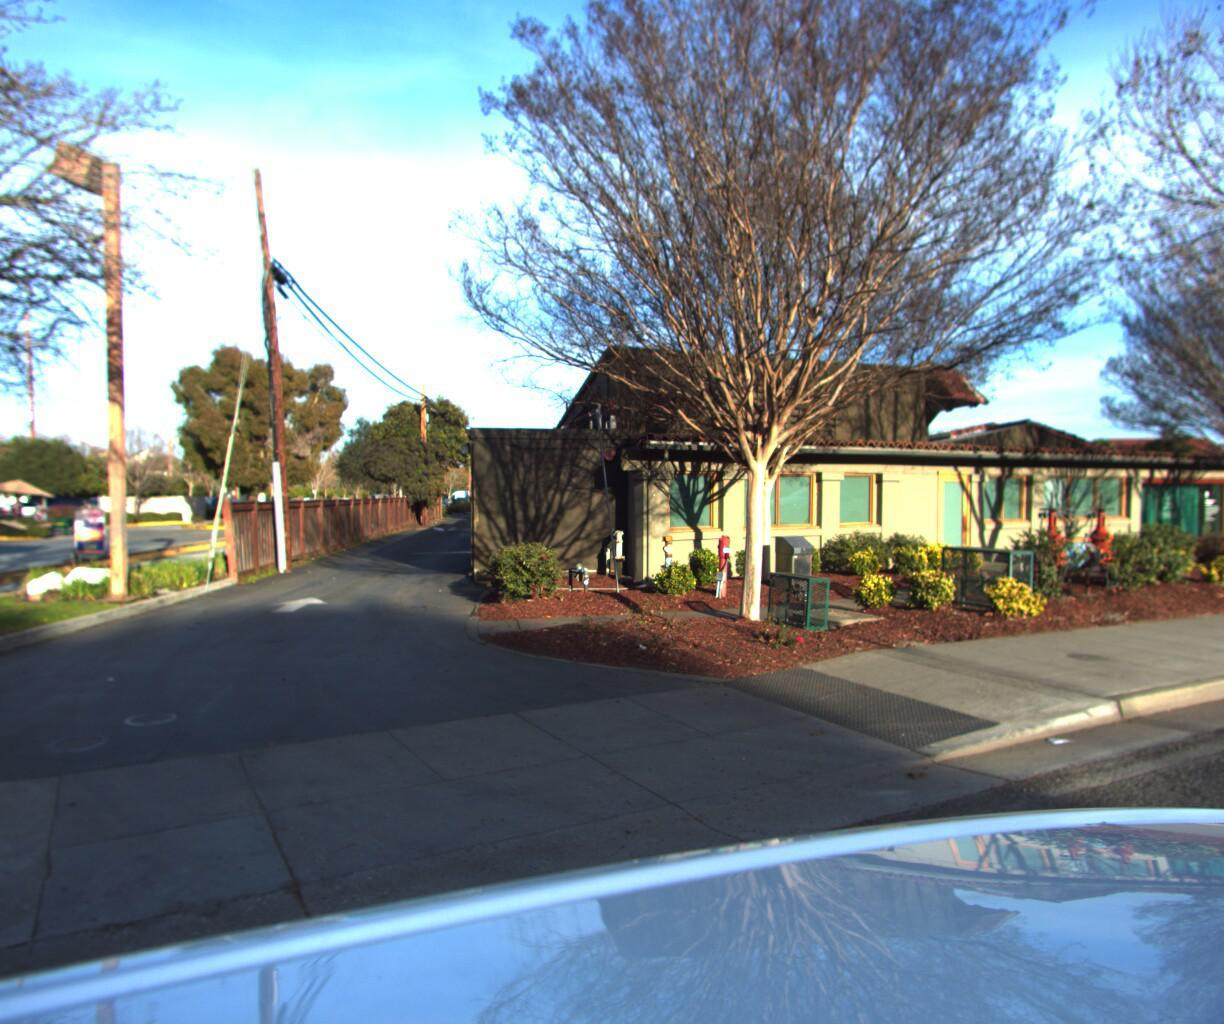car: (0, 503, 49, 543)
